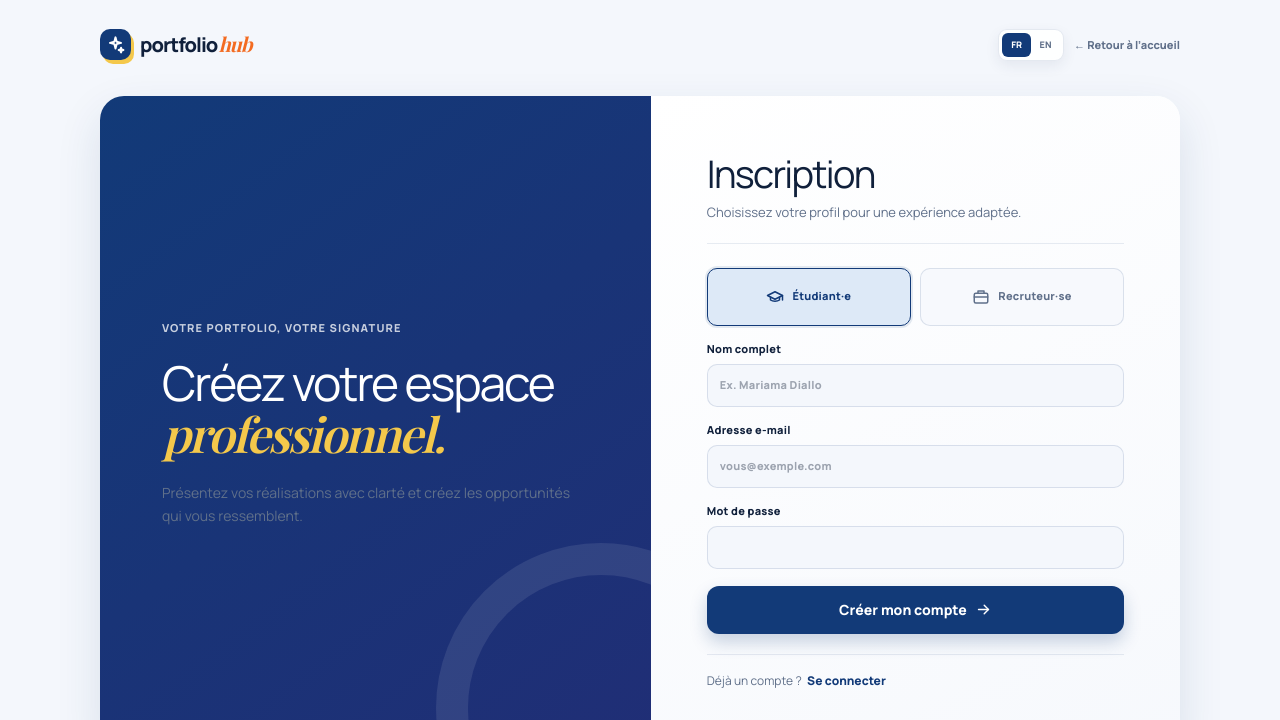
Test: sign-up flow › creates a recruiter account then returns to login without opening a session
Click the radio button labelled "Recruteur·se" at (1022, 296), box [920,268,1124,326]
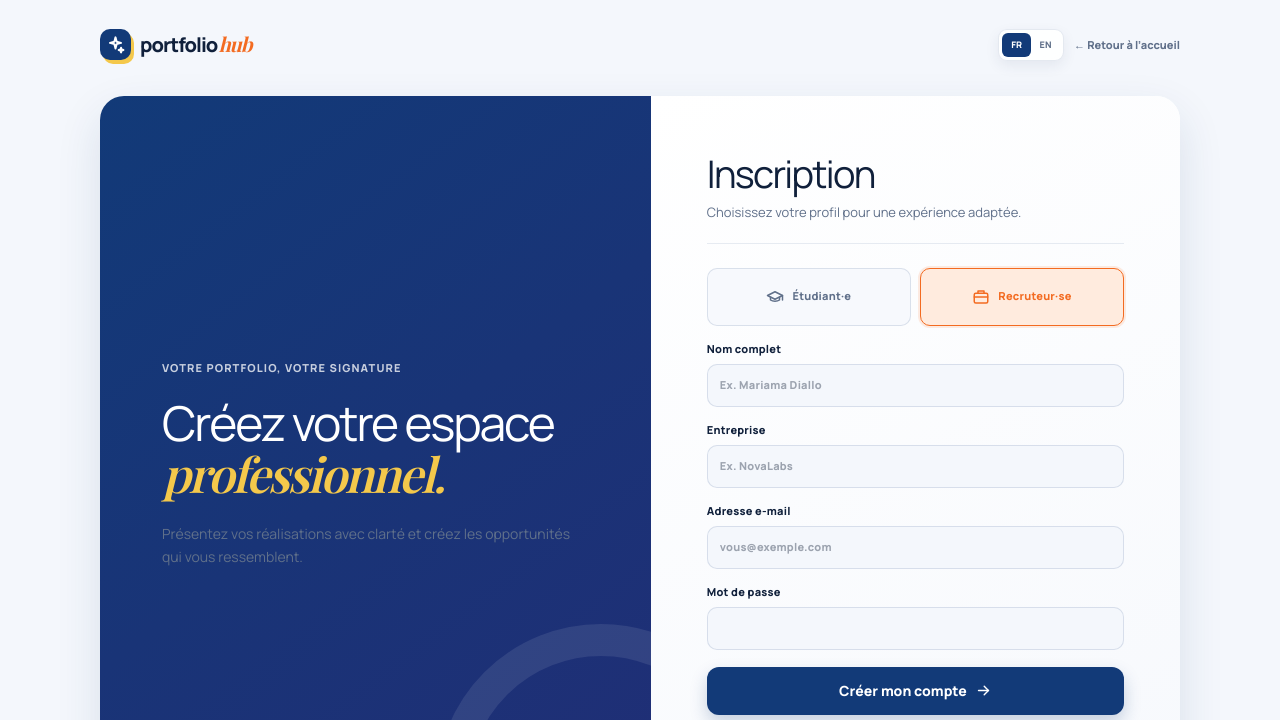
Type "Nora Blanc" into the field labelled "Nom complet" at (915, 385), box [707,364,1124,406]
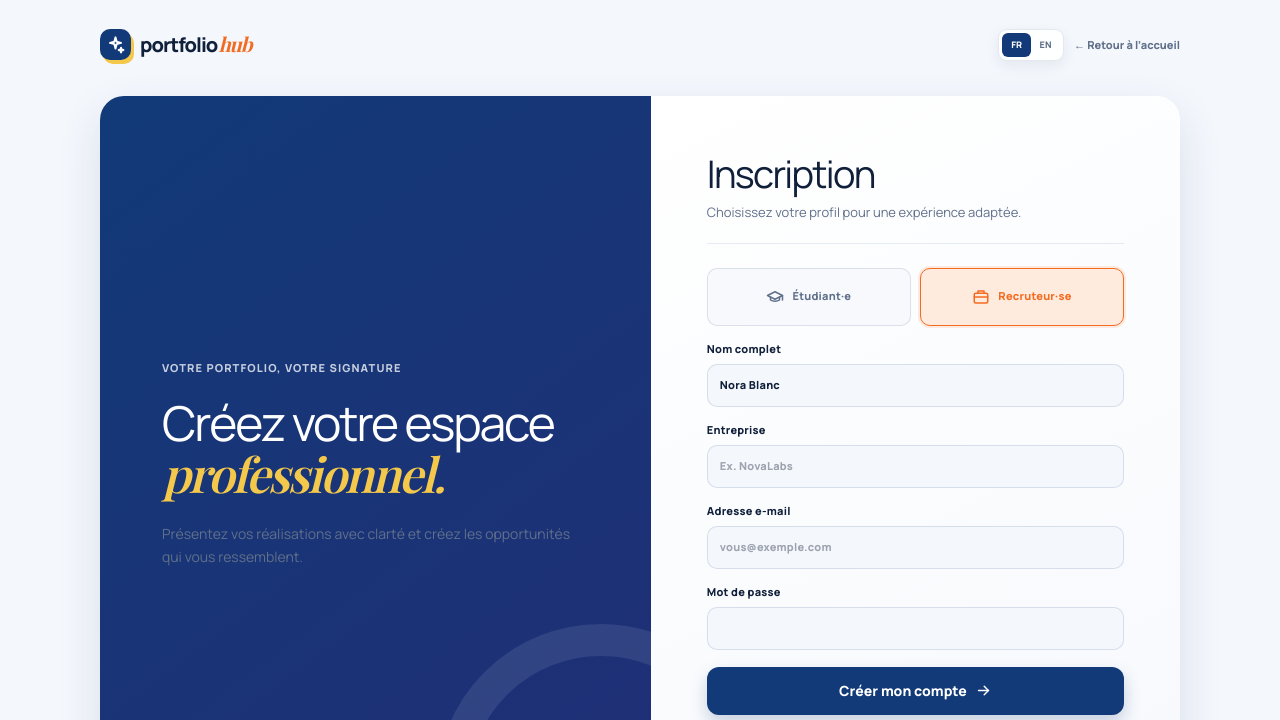
Type "NovaLabs" into the field labelled "Entreprise" at (915, 466), box [707,445,1124,488]
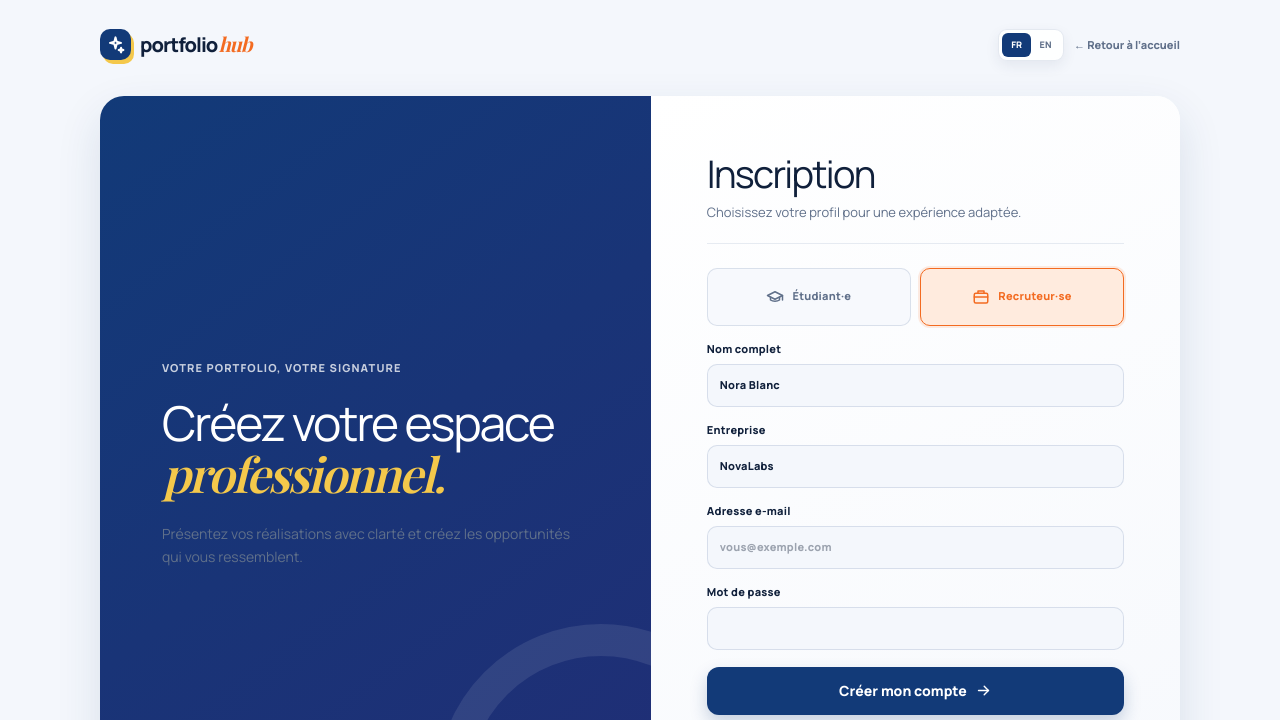
Type "recruiter-new@portfolio.test" into the field labelled "Adresse e-mail" at (915, 547), box [707,526,1124,568]
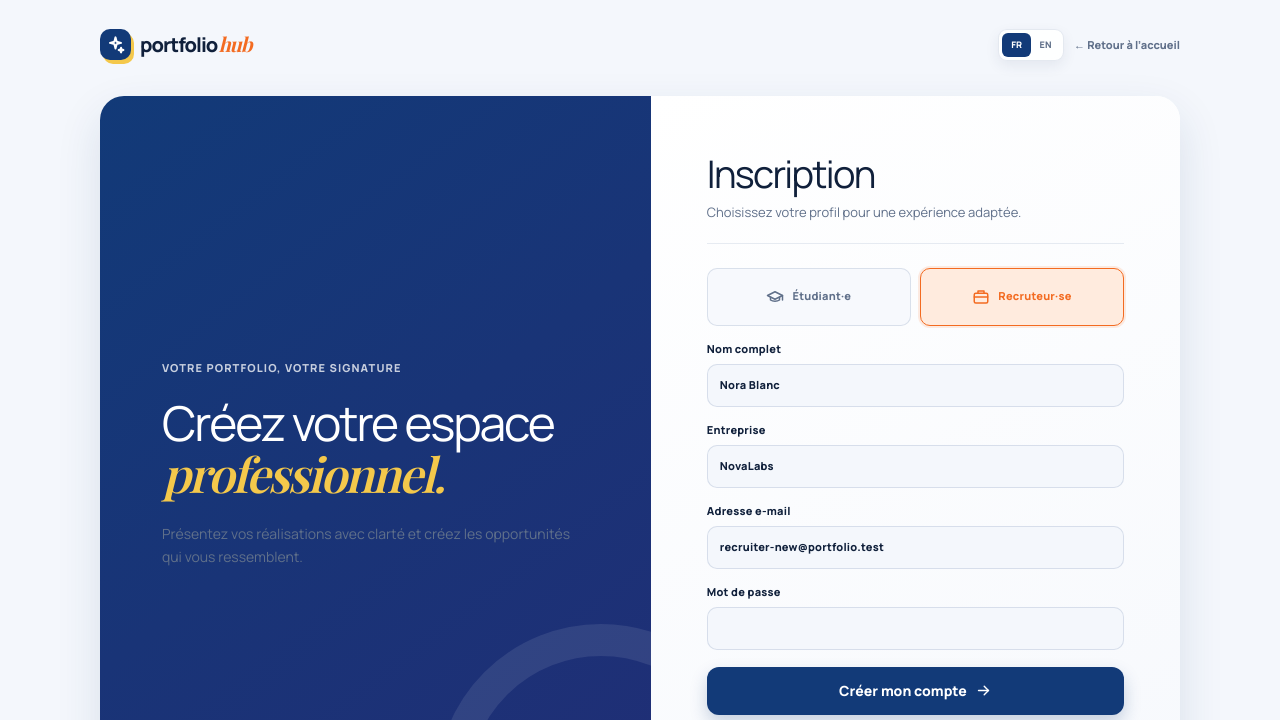
Type "secret1" into the password field labelled "Mot de passe" at (915, 628), box [707,607,1124,650]
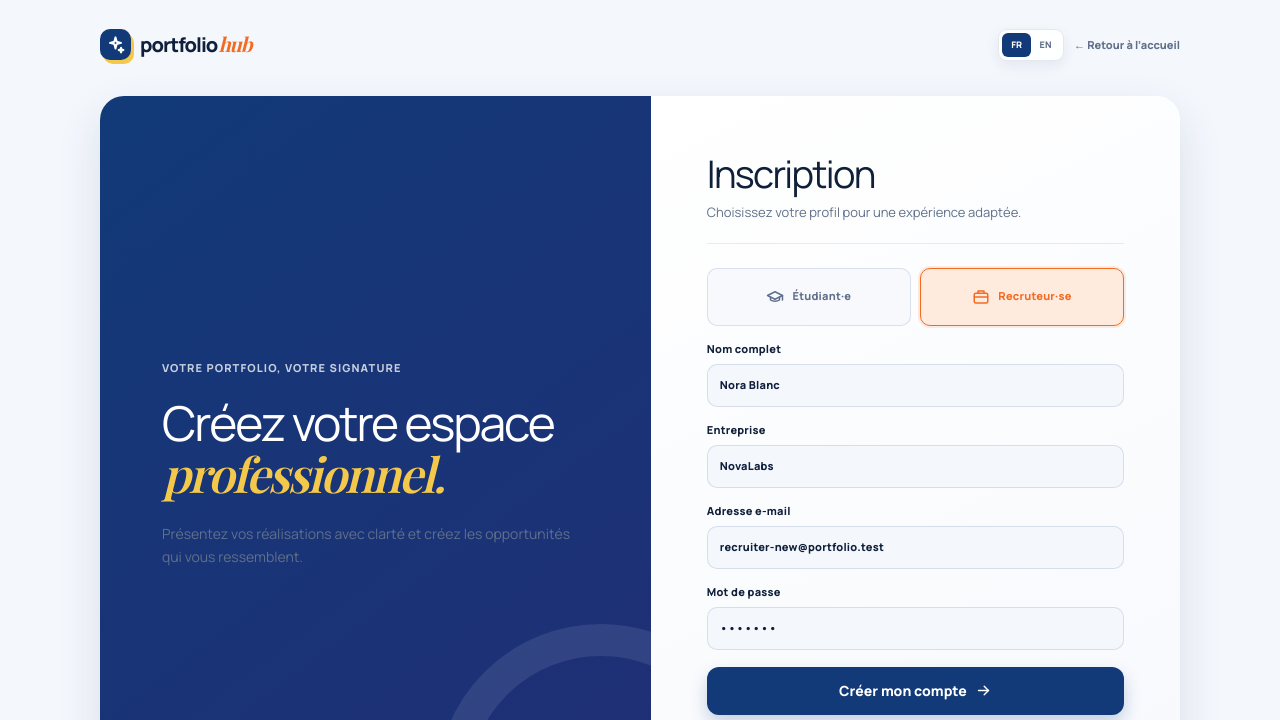
Click the button "Créer mon compte" at (915, 690), box [707,666,1124,714]
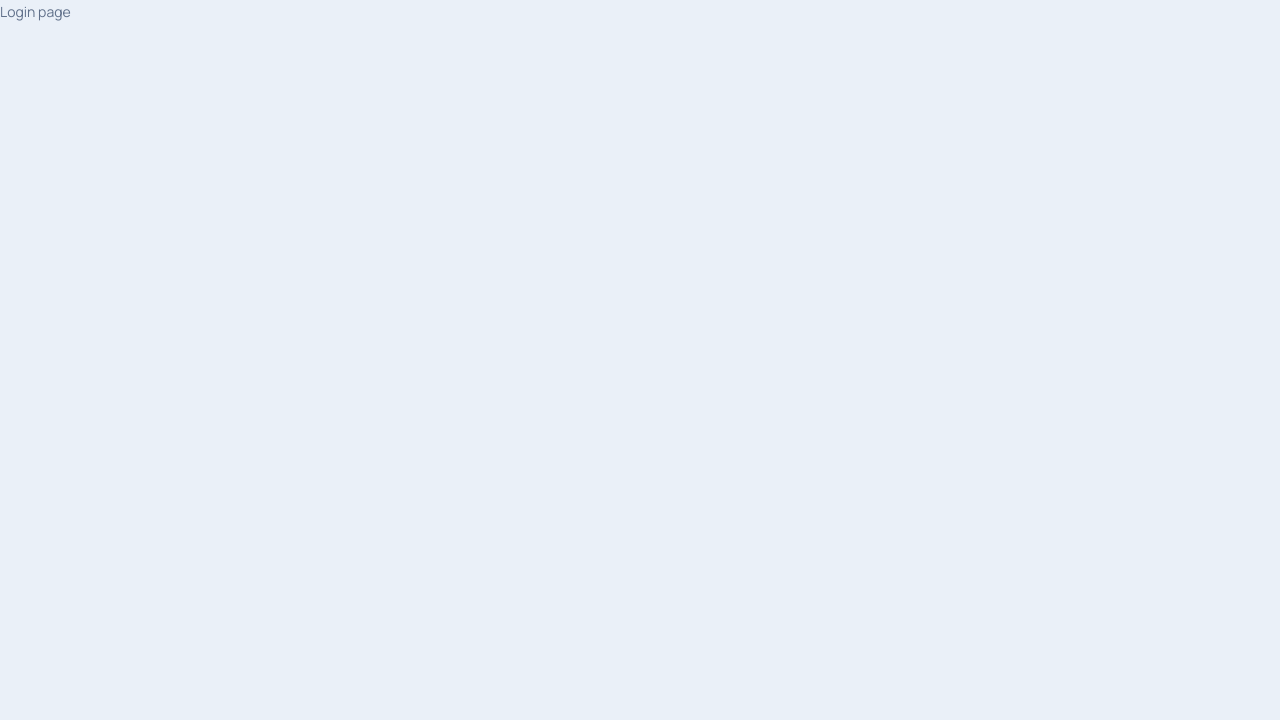
Expected: the text "Login page" is shown, [0,2,71,21]
